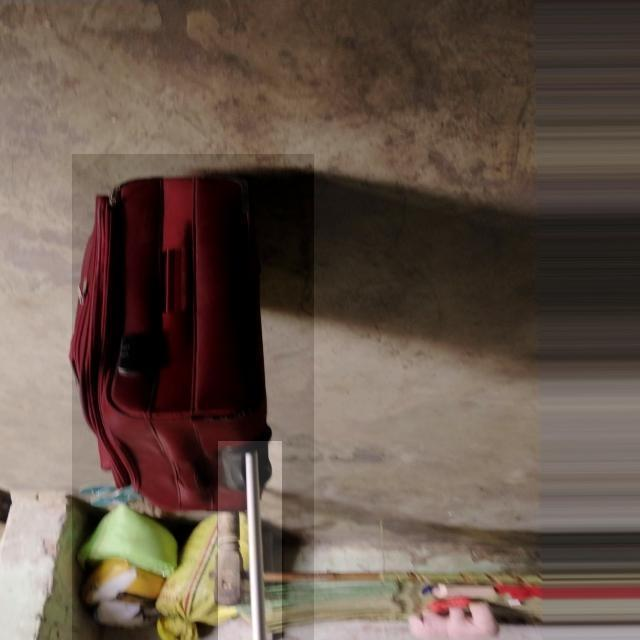Suitcase: (63, 149, 304, 633)
